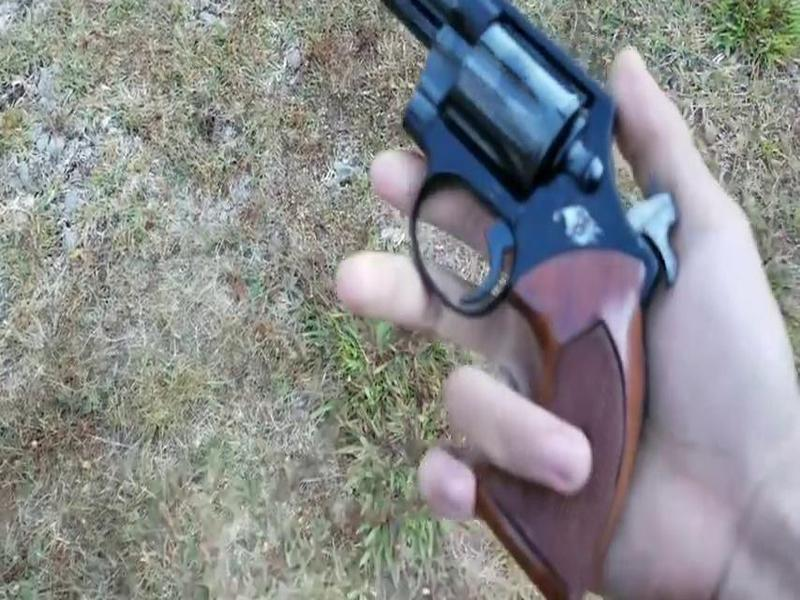Revolver: (341, 2, 683, 594)
